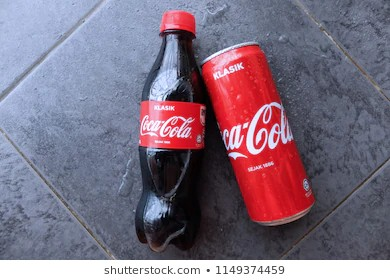coke-bottle-300ml: (131, 1, 216, 246)
coke-can: (198, 36, 329, 234)
